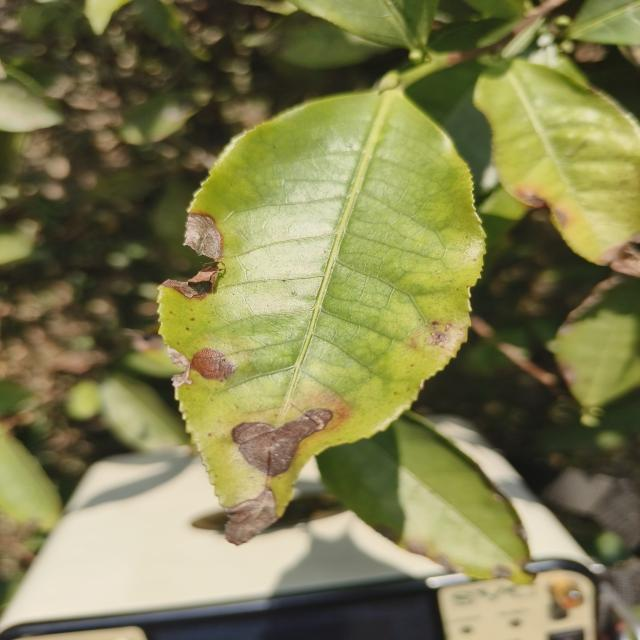Leaf: (158, 88, 484, 544), (474, 58, 640, 277), (317, 413, 530, 583), (553, 274, 640, 425), (287, 0, 438, 59), (244, 11, 389, 69), (99, 373, 190, 451), (0, 423, 62, 531), (119, 91, 212, 145), (0, 80, 61, 132)
